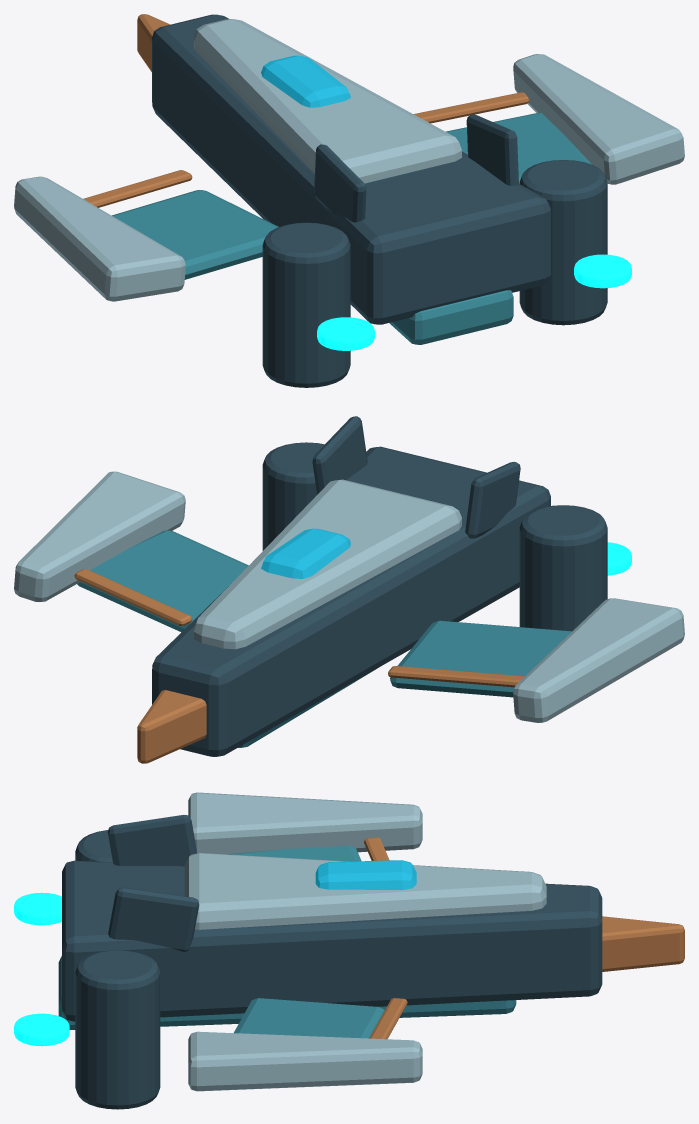
Rendered from pulseRunnerCraftV4.candidate.glb.
3 views of the same model, one above another, from view 1: azimuth 30°, elevation 25°; view 2: azimuth 150°, elevation 25°; view 3: azimuth 270°, elevation 25° (orthographic). The views are drawn at different scales.
Parts seen in each view (by area): view 1: runner continuous tapered fuselage, runner dorsal armour shell, runner recessed drive housing -1, runner wing tip armour 1, runner wing tip armour -1, runner recessed drive housing 1, runner swept continuous wing -1, runner ventral keel, runner swept continuous wing 1, runner canopy spine, runner stabilizer fin -1, runner stabilizer fin 1 (+5 smaller); view 2: runner continuous tapered fuselage, runner dorsal armour shell, runner wing tip armour -1, runner wing tip armour 1, runner recessed drive housing -1, runner swept continuous wing 1, runner swept continuous wing -1, runner recessed drive housing 1, runner pointed bronze prow, runner canopy spine, runner stabilizer fin -1, runner stabilizer fin 1 (+3 smaller); view 3: runner continuous tapered fuselage, runner dorsal armour shell, runner recessed drive housing 1, runner wing tip armour 1, runner wing tip armour -1, runner swept continuous wing 1, runner stabilizer fin 1, runner pointed bronze prow, runner stabilizer fin -1, runner canopy spine, runner ventral keel, runner bounded exhaust aperture 1 (+4 smaller).
Boxes of the visible parts, left/top/right/bottom form: runner continuous tapered fuselage: left=152, top=14, right=550, bottom=324; runner dorsal armour shell: left=194, top=19, right=461, bottom=183; runner recessed drive housing -1: left=262, top=222, right=350, bottom=387; runner wing tip armour 1: left=513, top=54, right=684, bottom=184; runner wing tip armour -1: left=14, top=176, right=185, bottom=301; runner recessed drive housing 1: left=519, top=160, right=607, bottom=325; runner swept continuous wing -1: left=112, top=190, right=278, bottom=279; runner ventral keel: left=389, top=290, right=513, bottom=344; runner swept continuous wing 1: left=446, top=112, right=591, bottom=183; runner canopy spine: left=261, top=55, right=350, bottom=107; runner stabilizer fin -1: left=314, top=144, right=366, bottom=222; runner stabilizer fin 1: left=466, top=114, right=518, bottom=185; runner continuous tapered fuselage: left=152, top=446, right=550, bottom=756; runner dorsal armour shell: left=194, top=479, right=461, bottom=649; runner wing tip armour -1: left=513, top=598, right=684, bottom=722; runner wing tip armour 1: left=14, top=471, right=185, bottom=601; runner recessed drive housing -1: left=519, top=505, right=607, bottom=631; runner swept continuous wing 1: left=77, top=530, right=248, bottom=632; runner swept continuous wing -1: left=390, top=620, right=571, bottom=697; runner recessed drive housing 1: left=262, top=442, right=324, bottom=550; runner pointed bronze prow: left=137, top=690, right=206, bottom=763; runner canopy spine: left=261, top=528, right=350, bottom=578; runner stabilizer fin -1: left=465, top=461, right=520, bottom=538; runner stabilizer fin 1: left=312, top=416, right=367, bottom=494; runner continuous tapered fuselage: left=62, top=860, right=602, bottom=1021; runner dorsal armour shell: left=184, top=853, right=546, bottom=929; runner recessed drive housing 1: left=75, top=950, right=160, bottom=1109; runner wing tip armour 1: left=188, top=1031, right=422, bottom=1091; runner wing tip armour -1: left=188, top=792, right=422, bottom=854; runner swept continuous wing 1: left=234, top=998, right=384, bottom=1038; runner stabilizer fin 1: left=108, top=887, right=199, bottom=951; runner pointed bronze prow: left=602, top=916, right=684, bottom=971; runner stabilizer fin -1: left=107, top=815, right=197, bottom=866; runner canopy spine: left=315, top=860, right=416, bottom=889; runner ventral keel: left=58, top=956, right=516, bottom=1029; runner bounded exhaust aperture 1: left=14, top=1013, right=69, bottom=1046.
Bounding box in the file's own units: 2.88 × 0.9035 × 3.
